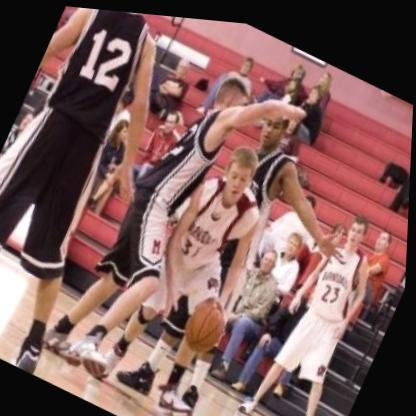basketball: (175, 287, 239, 360)
